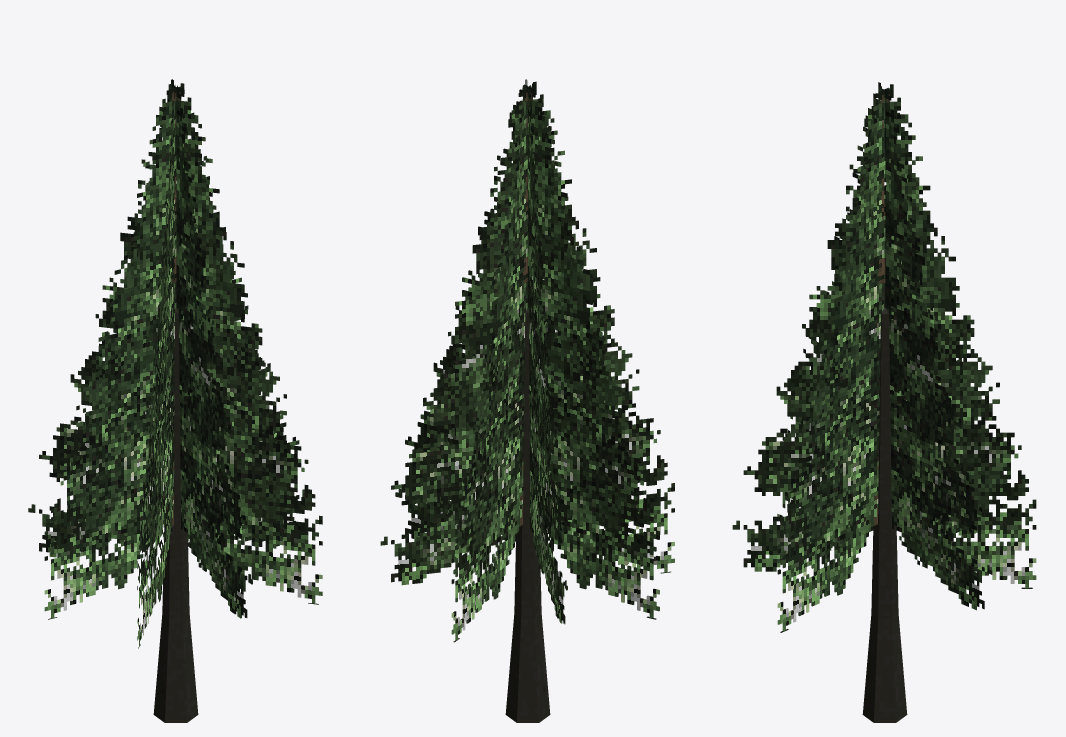
Rendered from tree10.glb.
3 views of the same model, side by side, from view 1: azimuth 30°, elevation 25°; view 2: azimuth 150°, elevation 25°; view 3: azimuth 270°, elevation 25° (orthographic).
Parts seen in each view (by area): view 1: tree10; view 2: tree10; view 3: tree10.
Boxes of the visible parts, x1=… form: tree10: x1=28, y1=79, x2=322, y2=722; tree10: x1=380, y1=79, x2=674, y2=722; tree10: x1=732, y1=82, x2=1036, y2=722.
Size of the model in its own units: 3.84 by 8 by 3.84.
Materials: 1 (1 with a texture image).
